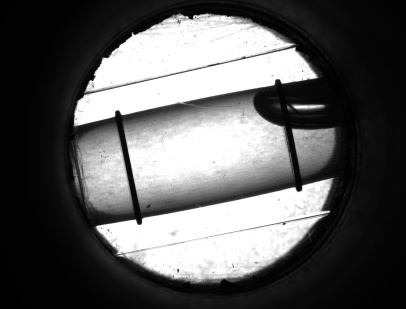line: (115, 130, 142, 200), (280, 136, 305, 172)
